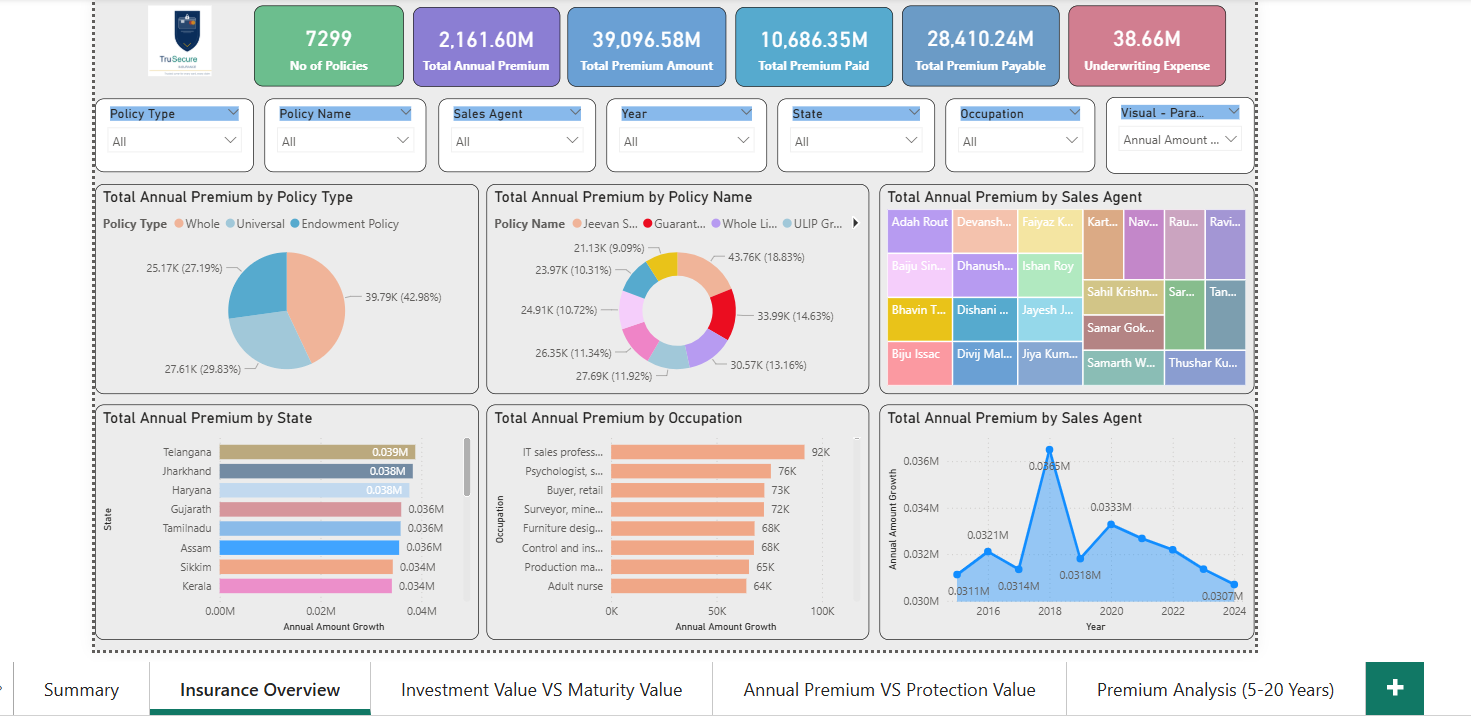

What the dashboard file says about the page in this screenshot:
{"tool":"powerbi","page":{"name":"Insurance Overview","canvas":[1280,720],"ordinal":1},"visuals":[{"type":"card","fields":{"Values":["CountNonNull(DM Customer_Detail_Table.Customer ID)"]},"box":[176.1,8.3,165.6,89.4],"z":0},{"type":"card","fields":{"Values":["Sum(FCT Insurance_Policy_Table.Total Annual Premium)"]},"box":[351.7,9.4,162.3,87.8],"z":1000},{"type":"card","fields":{"Values":["Sum(FCT Insurance_Policy_Table.Total Premium Amount)"]},"box":[522.3,9.9,175.6,87.8],"z":2000},{"type":"card","fields":{"Values":["Sum(FCT Insurance_Policy_Table.Total Premium Paid)"]},"box":[706.8,9.4,173.9,87.8],"z":3000},{"type":"card","fields":{"Values":["Sum(FCT Insurance_Policy_Table.Total Premium Payable)"]},"box":[891.7,8.8,173.9,89.4],"z":4000},{"type":"card","fields":{"Values":["FCT Insurance_Policy_Table.Underwriting Expense"]},"box":[1075.6,7.7,173.9,89.4],"z":5000},{"type":"image","box":[0,8.3,187.2,77.9],"z":6000},{"type":"slicer","fields":{"Values":["DM Policy_Type.Policy Type"]},"box":[0,111,175.6,81.2],"z":7000},{"type":"slicer","fields":{"Values":["DM Policy_Protection_Plan.Policy Name"]},"box":[187.2,111,178.9,81.2],"z":8000},{"type":"slicer","fields":{"Values":["DM Insurance_Agent_Table.Sales Agent"]},"box":[379.3,111,173.9,81.2],"z":9000},{"type":"slicer","fields":{"Values":["FCT Insurance_Policy_Table.Start Date.Variation.Date Hierarchy.Year"]},"box":[564.9,111,177.2,81.2],"z":10000},{"type":"slicer","fields":{"Values":["DM Customer_Detail_Table.State"]},"box":[753.7,111,173.9,81.2],"z":11000},{"type":"slicer","fields":{"Values":["DM Customer_Detail_Table.Occupation"]},"box":[939.2,111,165.6,81.2],"z":12000},{"type":"pieChart","title":"Total Annual Premium by Policy Type","fields":{"Y":["FCT Insurance_Policy_Table.Annual Amount Growth"],"Category":["DM Policy_Type.Policy Type"]},"box":[0,205.4,424.1,231.9],"z":13000},{"type":"donutChart","title":"Total Annual Premium by Policy Name","fields":{"Y":["FCT Insurance_Policy_Table.Annual Amount Growth"],"Category":["DM Policy_Protection_Plan.Policy Name"]},"box":[432.3,205.4,422.4,231.9],"z":14000},{"type":"treemap","title":"Total Annual Premium by Sales Agent","fields":{"Values":["FCT Insurance_Policy_Table.Annual Amount Growth"],"Group":["DM Insurance_Agent_Table.Sales Agent"]},"box":[866.3,205.4,414.1,231.9],"z":15000},{"type":"barChart","title":"Total Annual Premium by State","fields":{"Y":["FCT Insurance_Policy_Table.Annual Amount Growth"],"Category":["DM Customer_Detail_Table.State"]},"box":[0,448.9,424.1,260.1],"z":16000},{"type":"barChart","title":"Total Annual Premium by Occupation","fields":{"Y":["FCT Insurance_Policy_Table.Annual Amount Growth"],"Category":["DM Customer_Detail_Table.Occupation"]},"box":[432.3,448.9,422.4,260.1],"z":17000},{"type":"lineChart","title":"Total Annual Premium by Sales Agent","fields":{"Y":["FCT Insurance_Policy_Table.Annual Amount Growth"],"Category":["FCT Insurance_Policy_Table.Start Date.Variation.Date Hierarchy.Year"]},"box":[866.3,448.9,414.1,260.1],"z":18000},{"type":"slicer","fields":{"Values":["Visual - Parameter.Visual - Parameter"]},"box":[1116.5,109.3,164,84.5],"z":19000}]}

Visuals, with their boxes on the page's 1280x720 design canvas (x1, y1, x2, y2). These are canvas units, not pixel positions in the 1471x716 screenshot, which may show the page scaled, cropped or inside an application window:
card - CountNonNull(DM Customer_Detail_Table.Customer ID): detection(176, 8, 342, 98)
card - Sum(FCT Insurance_Policy_Table.Total Annual Premium): detection(352, 9, 514, 97)
card - Sum(FCT Insurance_Policy_Table.Total Premium Amount): detection(522, 10, 698, 98)
card - Sum(FCT Insurance_Policy_Table.Total Premium Paid): detection(707, 9, 881, 97)
card - Sum(FCT Insurance_Policy_Table.Total Premium Payable): detection(892, 9, 1066, 98)
card - FCT Insurance_Policy_Table.Underwriting Expense: detection(1076, 8, 1250, 97)
image: detection(0, 8, 187, 86)
slicer - DM Policy_Type.Policy Type: detection(0, 111, 176, 192)
slicer - DM Policy_Protection_Plan.Policy Name: detection(187, 111, 366, 192)
slicer - DM Insurance_Agent_Table.Sales Agent: detection(379, 111, 553, 192)
slicer - FCT Insurance_Policy_Table.Start Date.Variation.Date Hierarchy.Year: detection(565, 111, 742, 192)
slicer - DM Customer_Detail_Table.State: detection(754, 111, 928, 192)
slicer - DM Customer_Detail_Table.Occupation: detection(939, 111, 1105, 192)
"Total Annual Premium by Policy Type" pieChart: detection(0, 205, 424, 437)
"Total Annual Premium by Policy Name" donutChart: detection(432, 205, 855, 437)
"Total Annual Premium by Sales Agent" treemap: detection(866, 205, 1280, 437)
"Total Annual Premium by State" barChart: detection(0, 449, 424, 709)
"Total Annual Premium by Occupation" barChart: detection(432, 449, 855, 709)
"Total Annual Premium by Sales Agent" lineChart: detection(866, 449, 1280, 709)
slicer - Visual - Parameter.Visual - Parameter: detection(1116, 109, 1280, 194)
